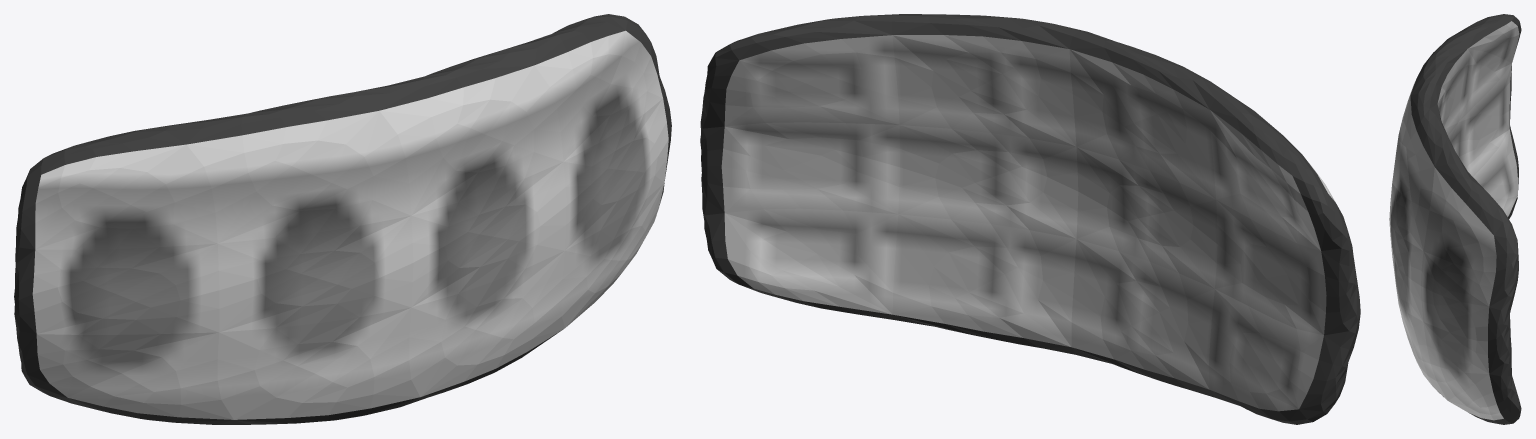
File: houston3_alt.obj
The picture shows the model from 3 angles, left to right: view 1: azimuth 30°, elevation 25°; view 2: azimuth 150°, elevation 25°; view 3: azimuth 270°, elevation 25°; orthographic projection. The views are drawn at different scales.
Visible parts, largest first — view 1: ColobotMesh_1.001_ColobotMesh_.001; view 2: ColobotMesh_1.001_ColobotMesh_.001; view 3: ColobotMesh_1.001_ColobotMesh_.001.
Boxes of the visible parts, x1,y1,x2,y2 form: ColobotMesh_1.001_ColobotMesh_.001: [14, 14, 671, 424]; ColobotMesh_1.001_ColobotMesh_.001: [700, 14, 1360, 424]; ColobotMesh_1.001_ColobotMesh_.001: [1389, 14, 1521, 424].
Size of the model in its own units: 8.27 by 3.88 by 1.84.
